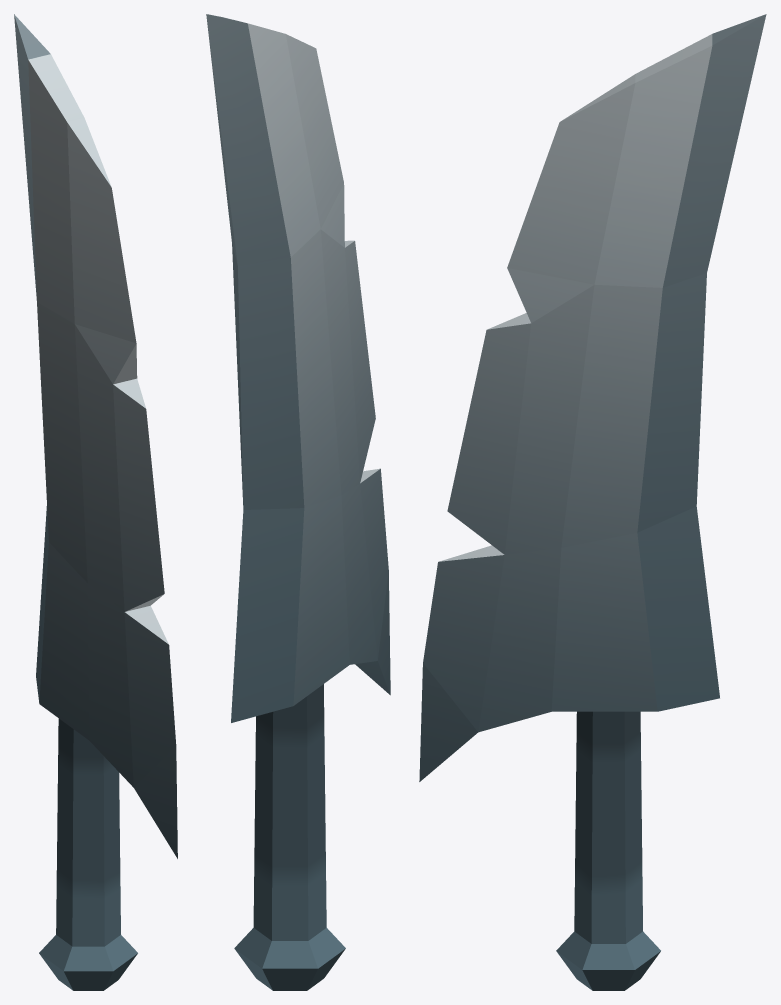
Rendered from wpms cap3a.fbx.
The picture shows the model from 3 angles, left to right: view 1: azimuth 30°, elevation 25°; view 2: azimuth 150°, elevation 25°; view 3: azimuth 270°, elevation 25°; orthographic projection. The views are drawn at different scales.
Parts seen in each view (by area): view 1: wpms_cap3a; view 2: wpms_cap3a; view 3: wpms_cap3a.
Part boxes in pixels (x1=…): wpms_cap3a: x1=14, y1=14, x2=177, y2=990; wpms_cap3a: x1=206, y1=14, x2=390, y2=990; wpms_cap3a: x1=419, y1=14, x2=766, y2=990.
Bounding box in the file's own units: 11.42 × 133 × 43.49.
Materials: 1 (1 with a texture image).
